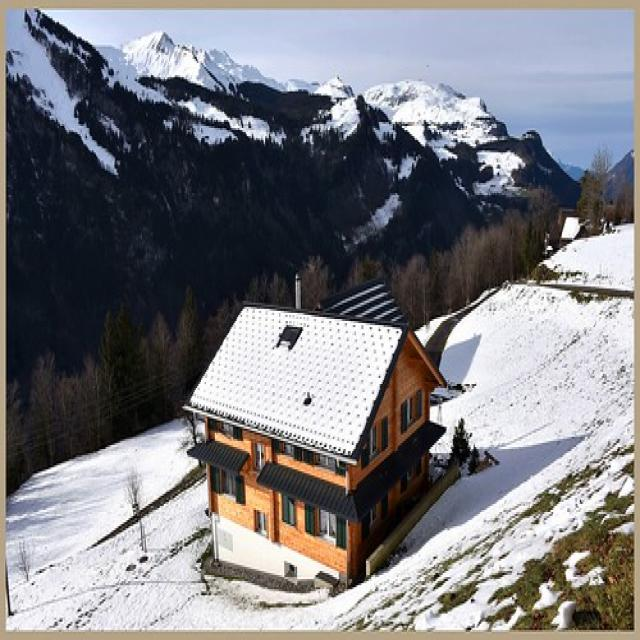Normal_building: (184, 299, 447, 597)
